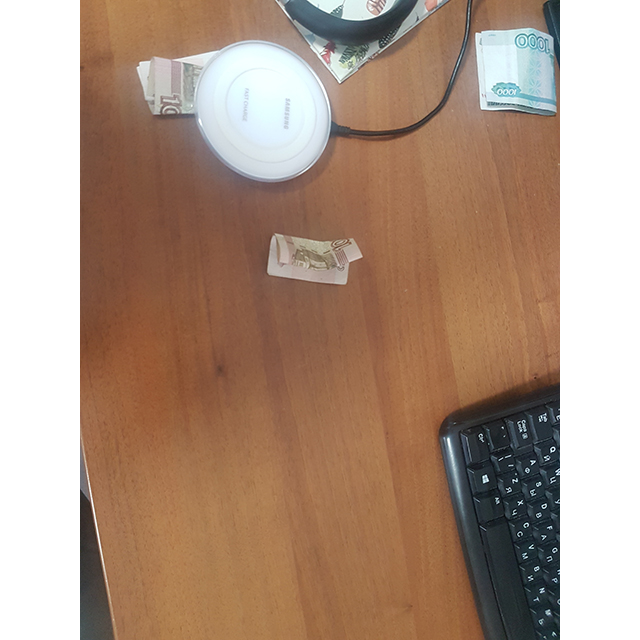banknotes: (473, 28, 556, 117), (263, 231, 364, 288), (138, 49, 208, 116)
